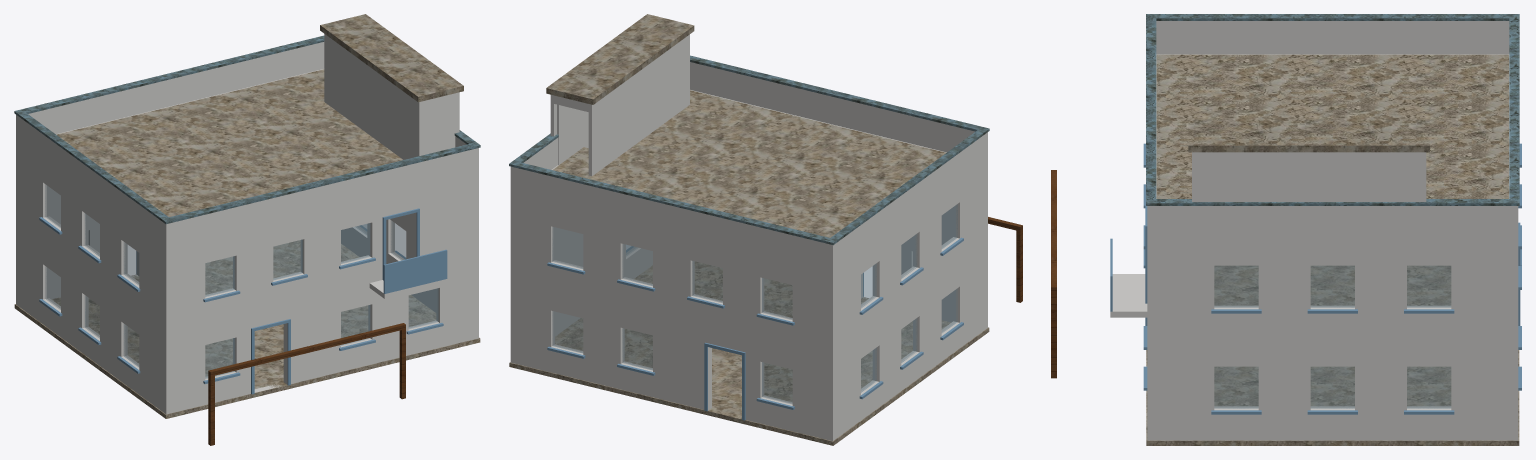
Rendered from bay-villa-white.coast-v2.lod1.glb.
3 renders of one model, left to right at view 1: azimuth 30°, elevation 25°; view 2: azimuth 150°, elevation 25°; view 3: azimuth 270°, elevation 25°, orthographic. The views are drawn at different scales.
Visible parts, largest first — view 1: bay-villa-white; view 2: bay-villa-white; view 3: bay-villa-white.
Boxes of the visible parts, left/top/right/bottom form: bay-villa-white: left=14, top=14, right=480, bottom=445; bay-villa-white: left=509, top=14, right=1022, bottom=445; bay-villa-white: left=1051, top=14, right=1521, bottom=445.
Bounding box in the file's own units: 12.2 × 8.95 × 12.7.
4 materials, 2 textured.
